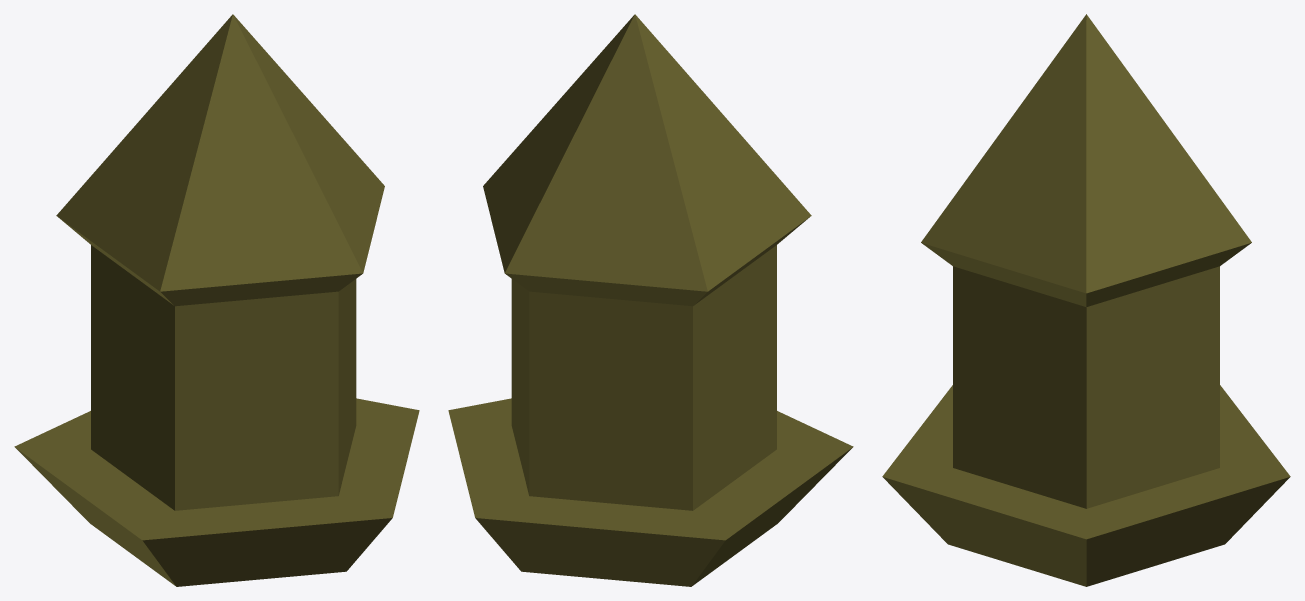
Rendered from hut.fbx.
3 views of the same model, side by side, from view 1: azimuth 30°, elevation 25°; view 2: azimuth 150°, elevation 25°; view 3: azimuth 270°, elevation 25° (orthographic).
Visible parts, largest first — view 1: pCylinder3; view 2: pCylinder3; view 3: pCylinder3.
Boxes of the visible parts, left/top/right/bottom form: pCylinder3: left=14, top=14, right=419, bottom=586; pCylinder3: left=448, top=14, right=853, bottom=586; pCylinder3: left=882, top=14, right=1290, bottom=586.
Bounding box in the file's own units: 26.67 × 38.6 × 28.05.
